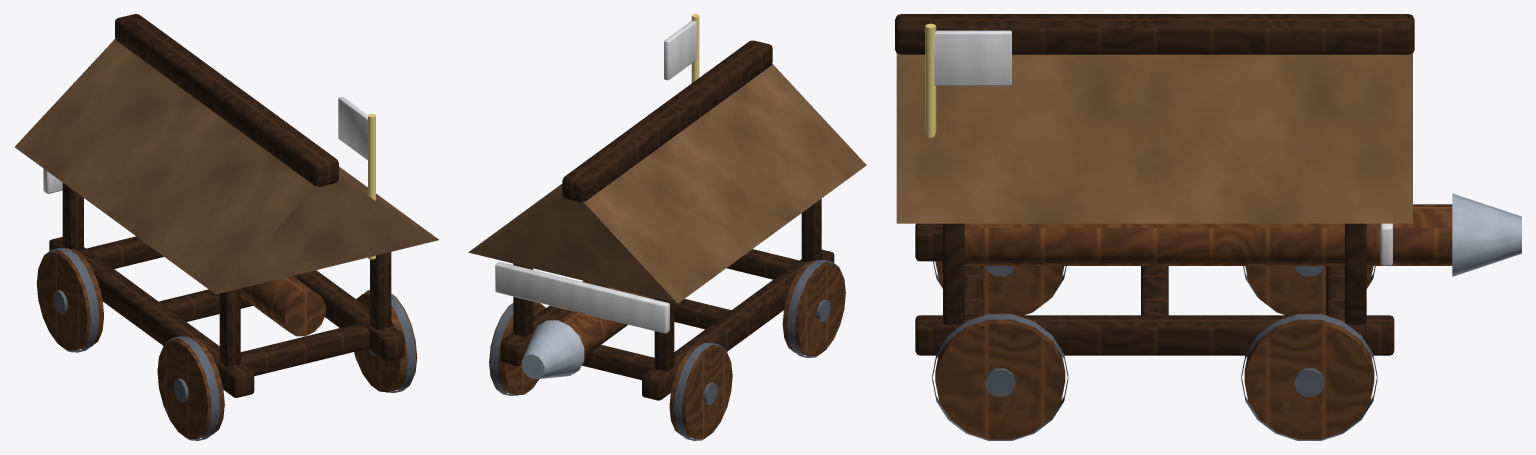
Rendered from unit_ram.glb.
3 views of the same model, side by side, from view 1: azimuth 30°, elevation 25°; view 2: azimuth 150°, elevation 25°; view 3: azimuth 270°, elevation 25° (orthographic). The views are drawn at different scales.
Parts seen in each view (by area): view 1: unit_ram; view 2: unit_ram; view 3: unit_ram.
Boxes of the visible parts, left/top/right/bottom form: unit_ram: left=14, top=14, right=438, bottom=440; unit_ram: left=468, top=14, right=866, bottom=440; unit_ram: left=895, top=14, right=1521, bottom=440.
Bounding box in the file's own units: 2.14 × 2.76 × 4.06.
7 materials, 6 textured.
